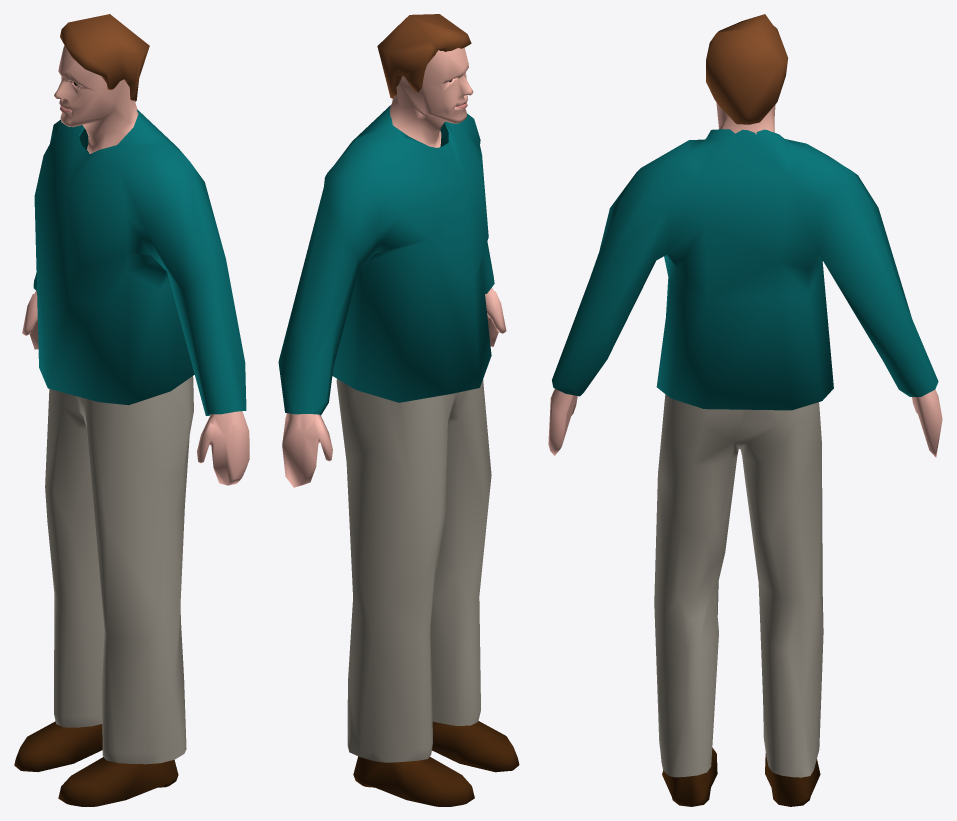
Rendered from Man-03.obj.
The picture shows the model from 3 angles, left to right: view 1: azimuth 30°, elevation 25°; view 2: azimuth 150°, elevation 25°; view 3: azimuth 270°, elevation 25°; orthographic projection.
Visible parts, largest first — view 1: Box01; view 2: Box01; view 3: Box01.
Boxes of the visible parts, box(x1,y1,x2,y2) form: Box01: box(14, 14, 249, 806); Box01: box(278, 14, 519, 806); Box01: box(548, 14, 942, 806).
Bounding box in the file's own units: 0.3359 × 1.74 × 0.8115.
